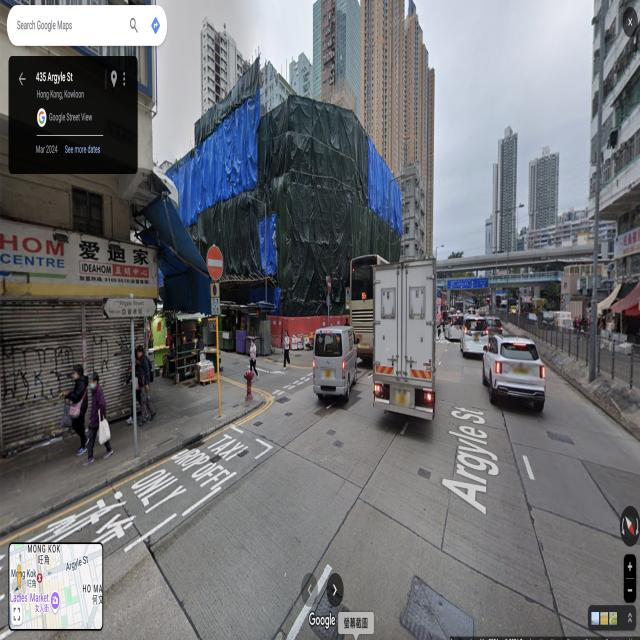Direction-Sign: (448, 278, 488, 290)
Order-Sign: (206, 246, 224, 279), (210, 283, 220, 315), (328, 276, 332, 292), (346, 289, 350, 302)
Street-Direction-Sign: (103, 298, 158, 318)
